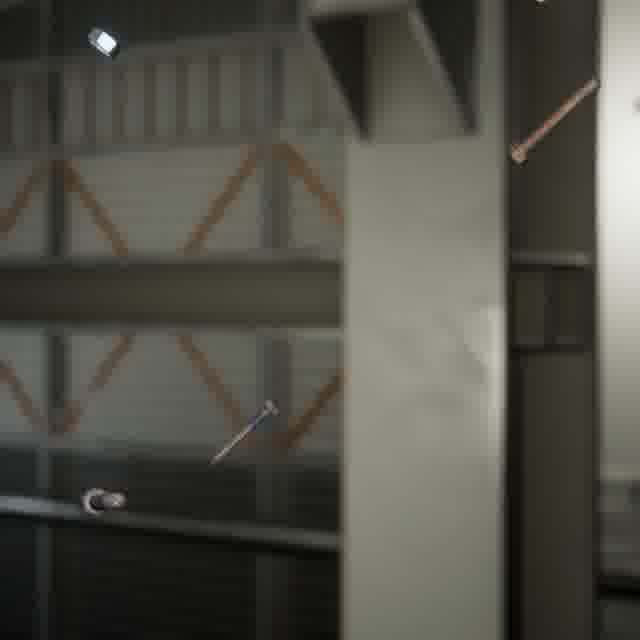bolt: (503, 72, 605, 168), (206, 392, 286, 468), (76, 483, 129, 520)
nut: (83, 23, 125, 62)
